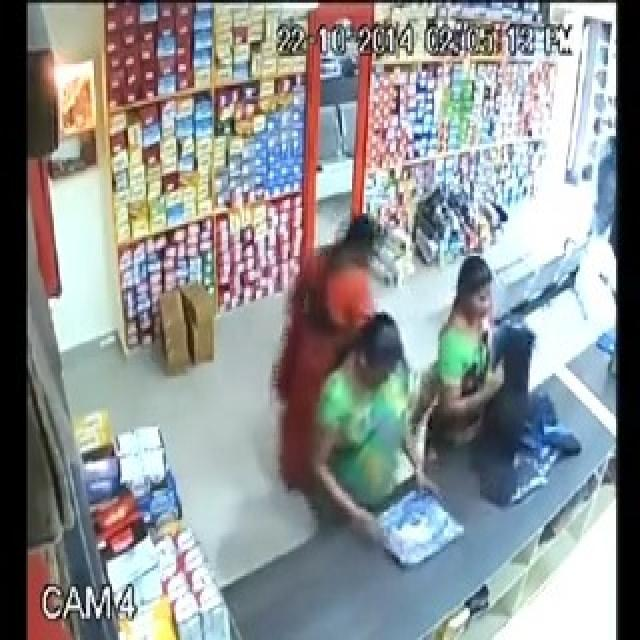Normal: (305, 309, 468, 583), (432, 243, 590, 517), (266, 204, 386, 490)
